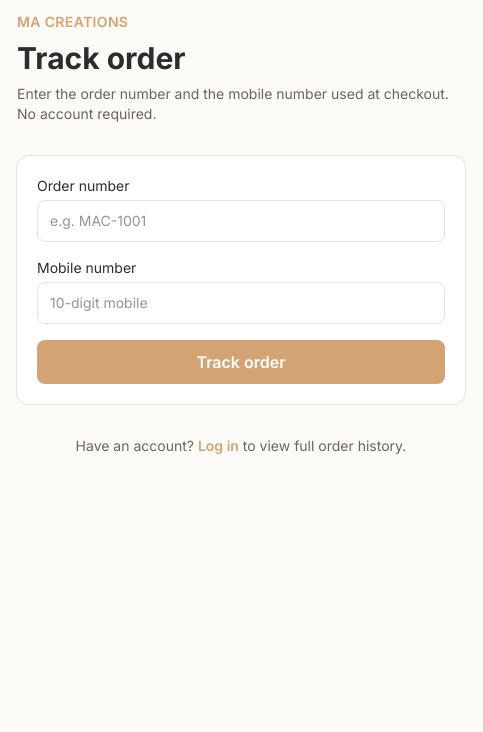
Test: Guest track order page › shows not found and no-tracking message paths
Type "MAC-X" into the field labelled "Order number".
click(241, 221); type("MAC-X")  # box [37,200,445,242]
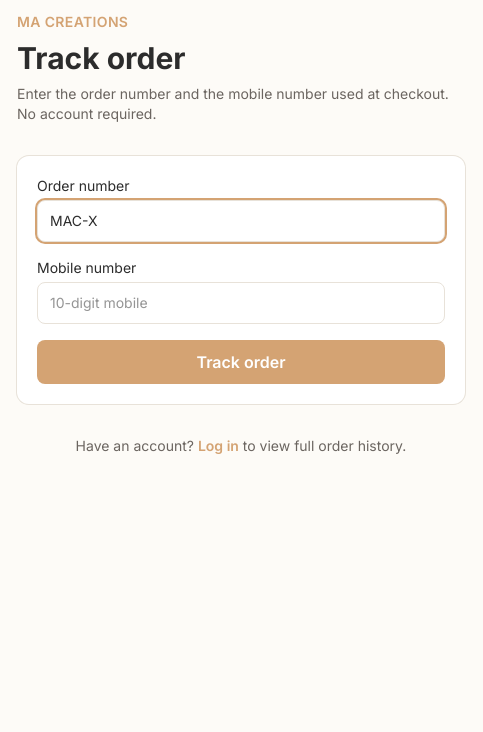
Type "9876543210" into the field labelled "Mobile number".
click(241, 303); type("9876543210")  # box [37,282,445,324]
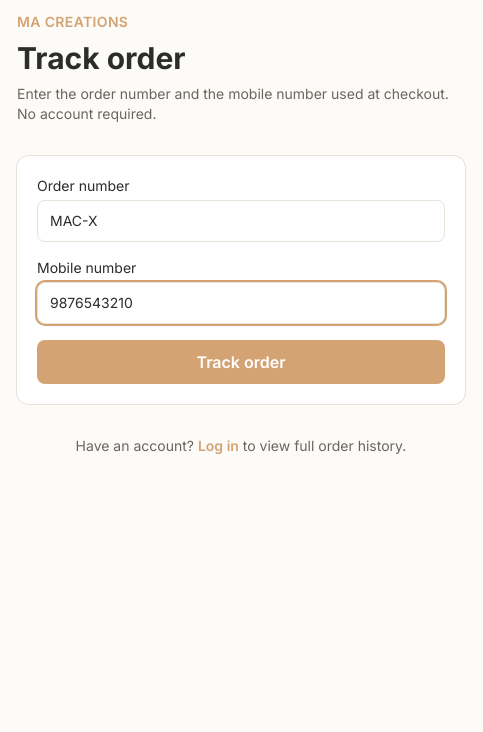
Click the button "Track order".
click(241, 362)  # box [37,340,445,384]
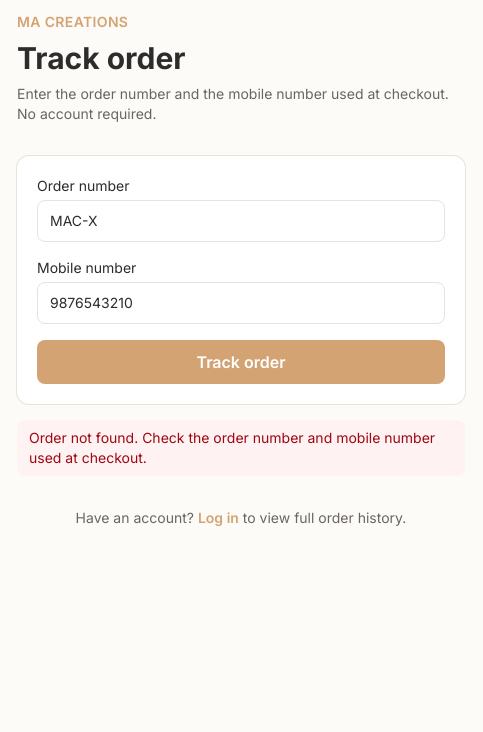
Expected: the text "Order not found. Check the order number and mobile number used at checkout." is shown, [17,420,465,476]
Replace the text in the field labelled "Order number" with "MAC-G2" at (241, 221), box [37,200,445,242]
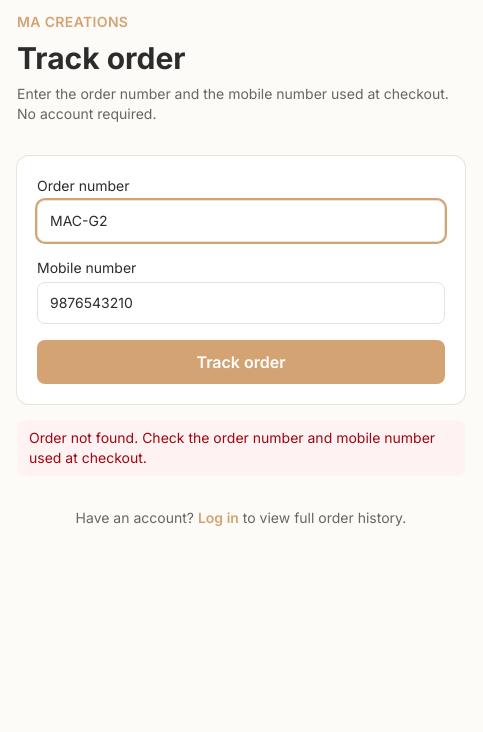
Click the button "Track order".
click(241, 362)  # box [37,340,445,384]
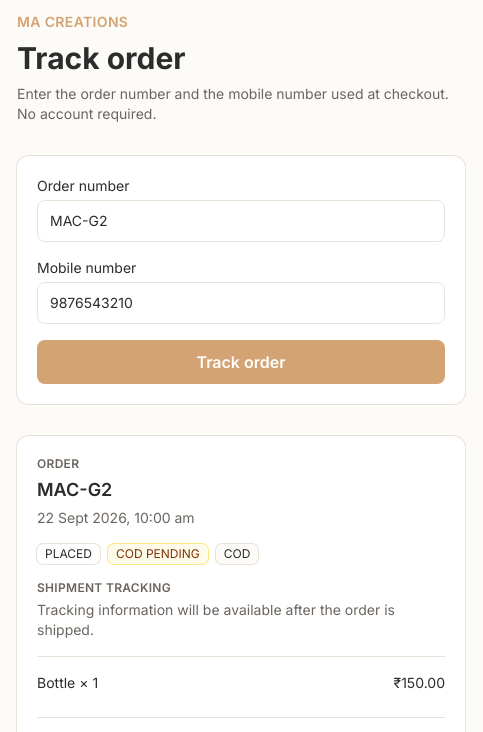
Expected: the text "Tracking information will be available after the order is shipped" is shown, [37,601,395,638]
